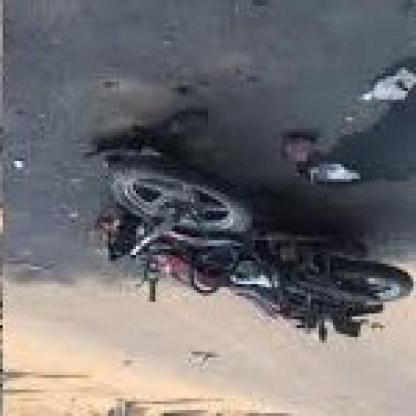bike: (82, 116, 412, 344)
